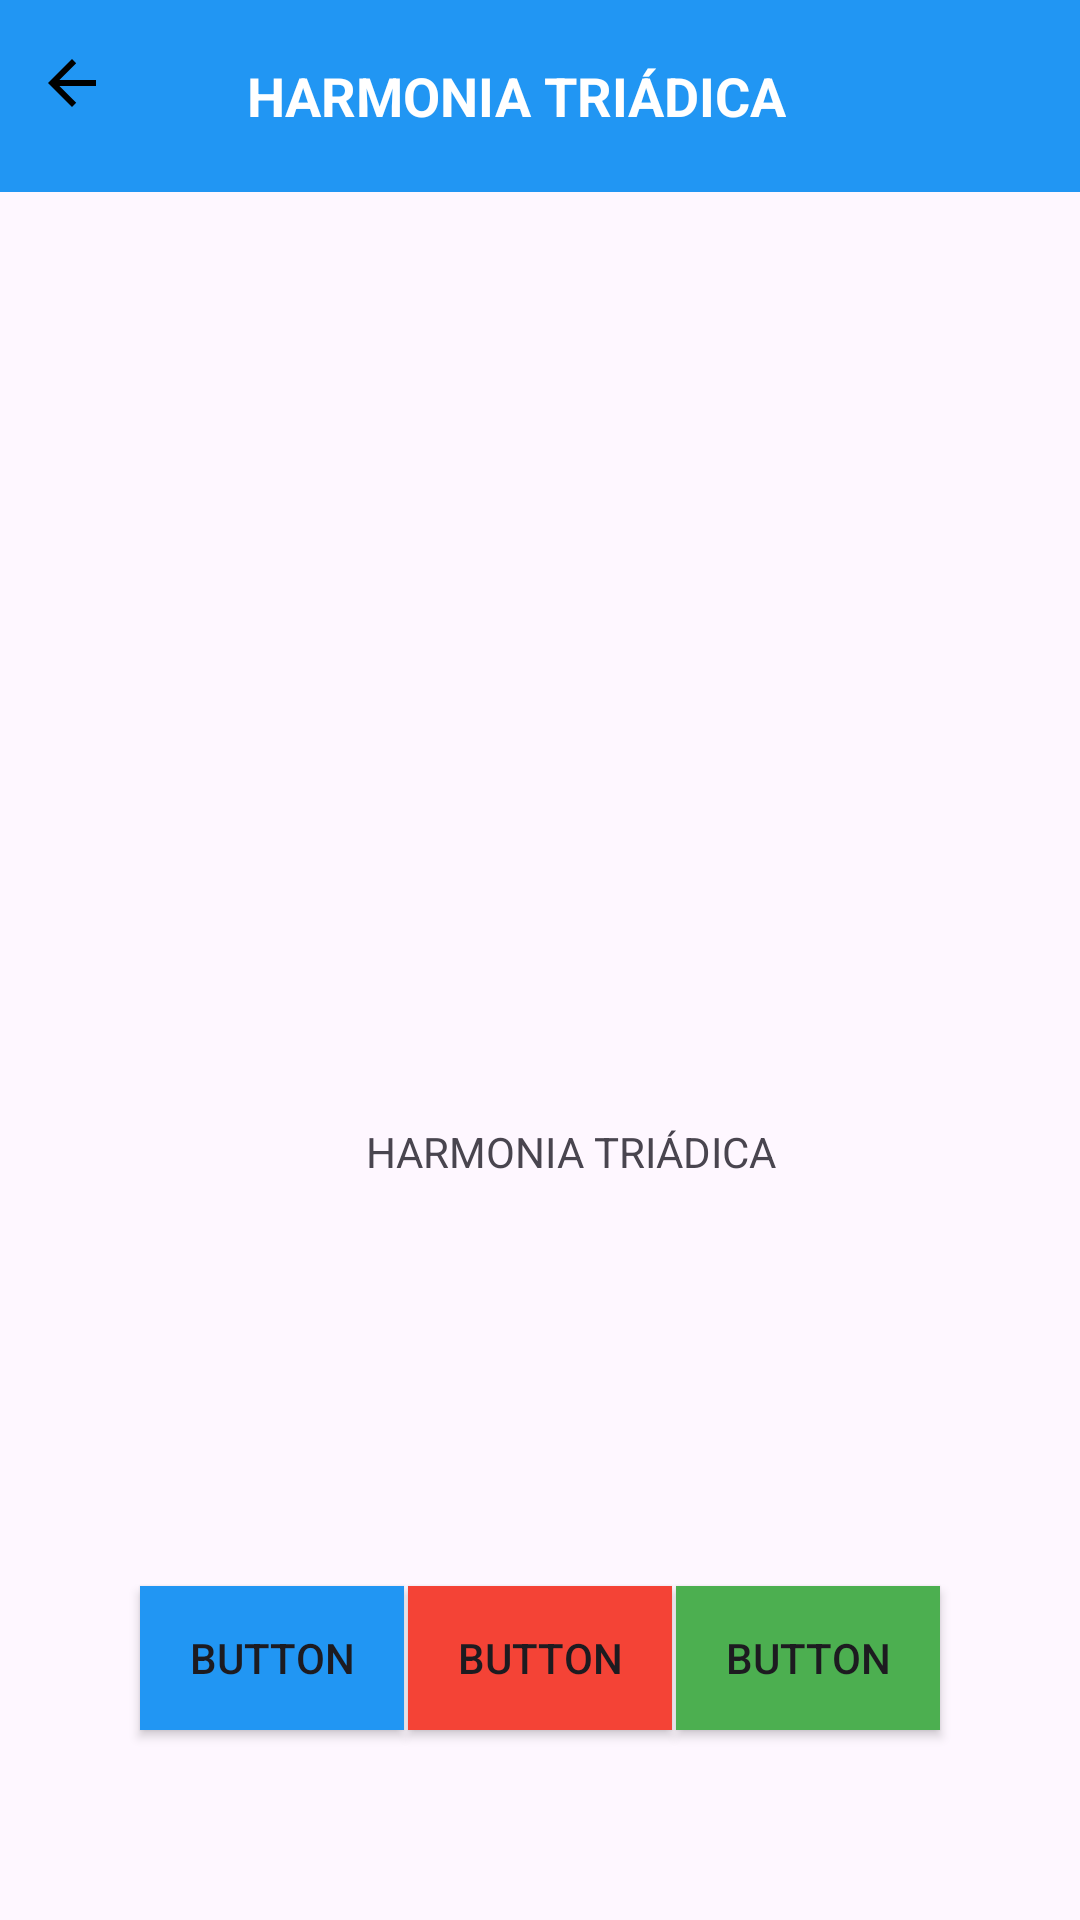

Named icons in this screenshot (1080 x 1920) and their bounding boxes, [left=x1, top=y1, right=x2, bottom=y2]:
Previous: [left=48, top=59, right=96, bottom=107]
